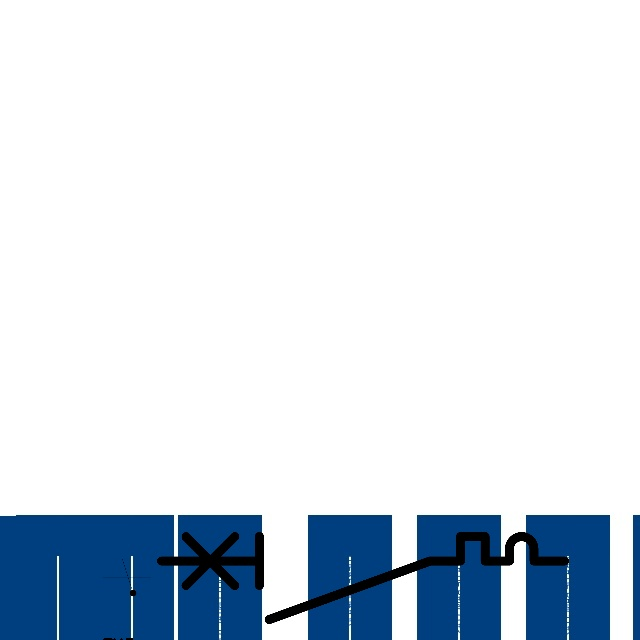interruptor_termomagnetico: (150, 526, 574, 630)
